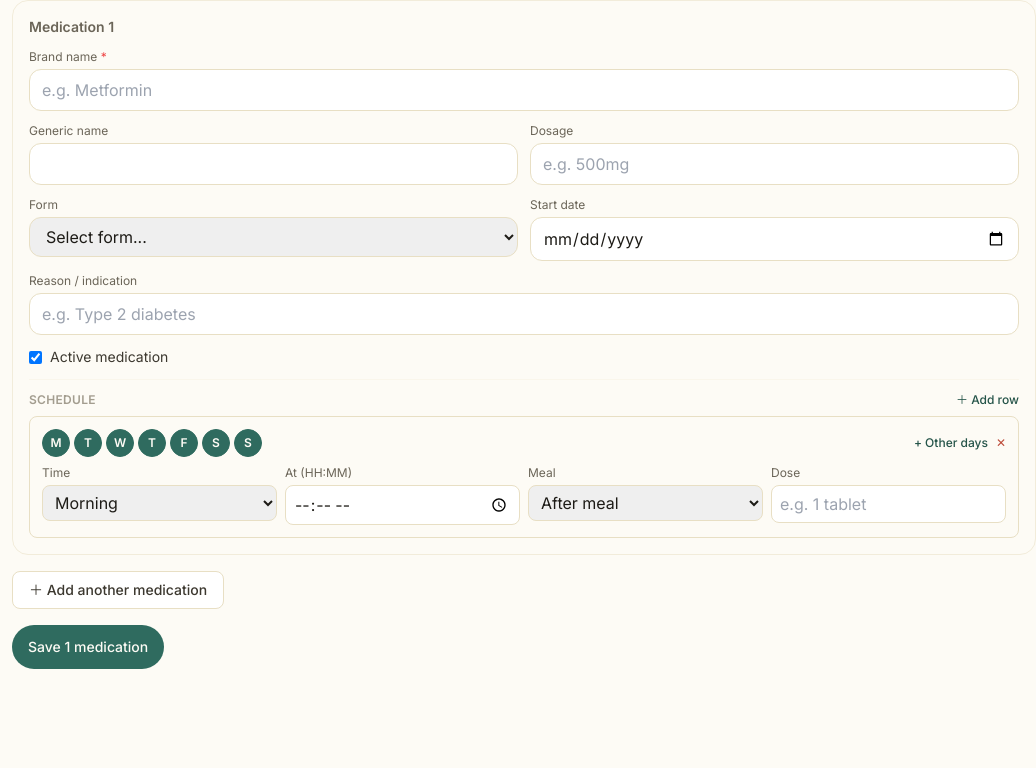
it: MedicationForm › brand name required validation
Click the button "Save 1 medication". click: (88, 647)
box: top-left (12, 625), bottom-right (164, 669)
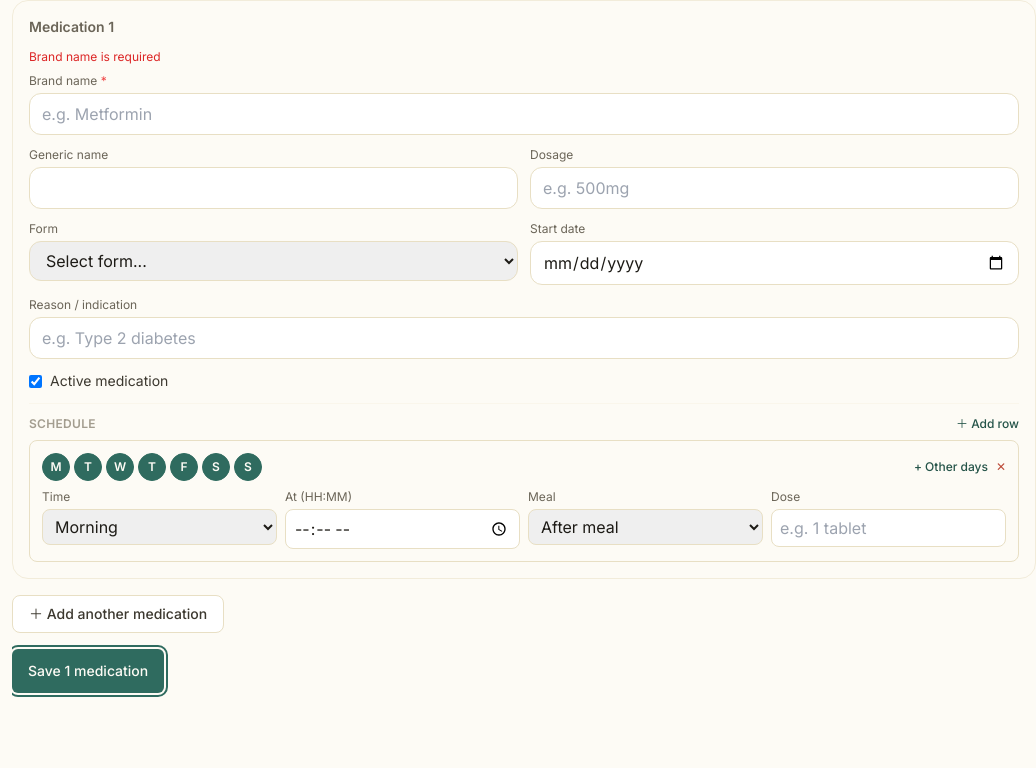
Expected: the text "Brand name is required" is shown, top-left (29, 49), bottom-right (161, 64)
